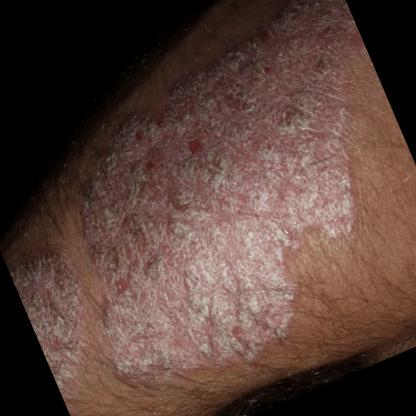Psoriasis: (11, 5, 416, 413), (4, 239, 113, 394)
